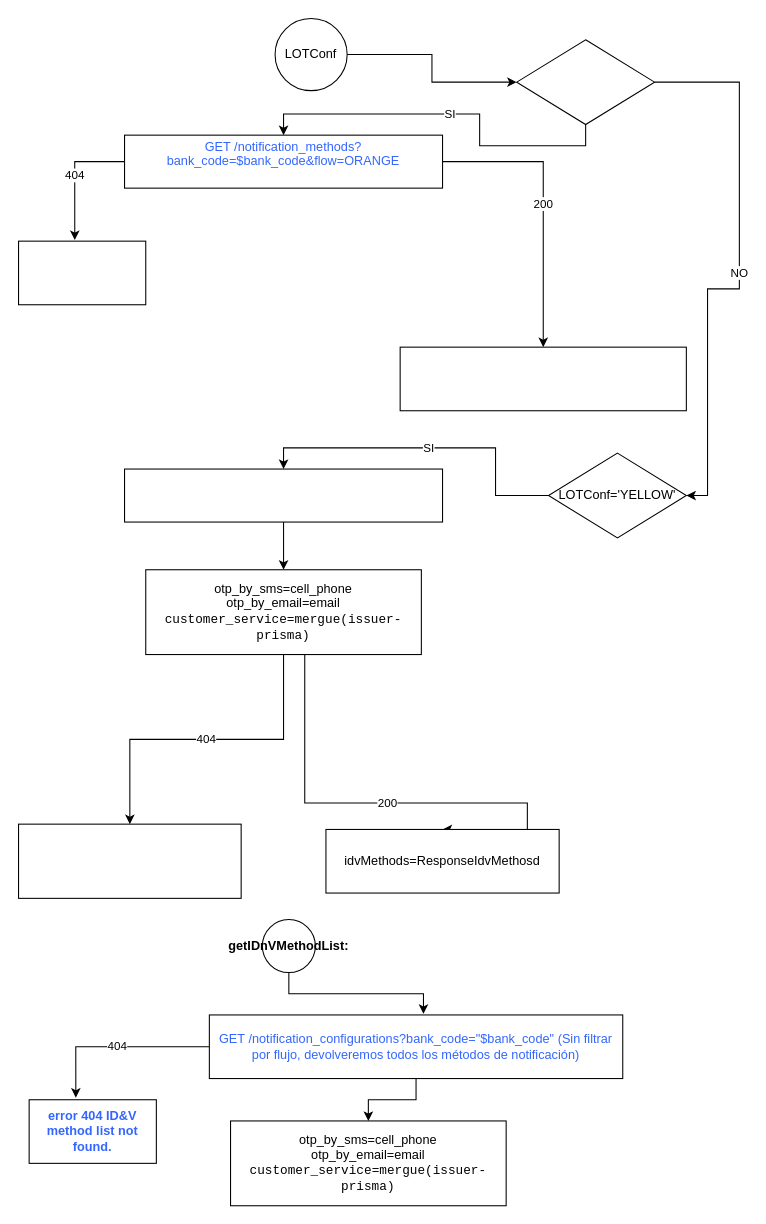
Some shapes in this 766 by 1224 pixel diagram are drawn without their labels. Each missing label, with the centre of its shape:
GET /notification_methods?bank_code=$bank_code&flow=YELLOW: the point at 283,495
idvMethods= notification_methods: the point at 542,378
idvMethods=Defauld_ idvMethods: the point at 129,860
LOTConf='ORANGE': the point at 585,82
LOTConf=RED idvMethods=null: the point at 81,272
